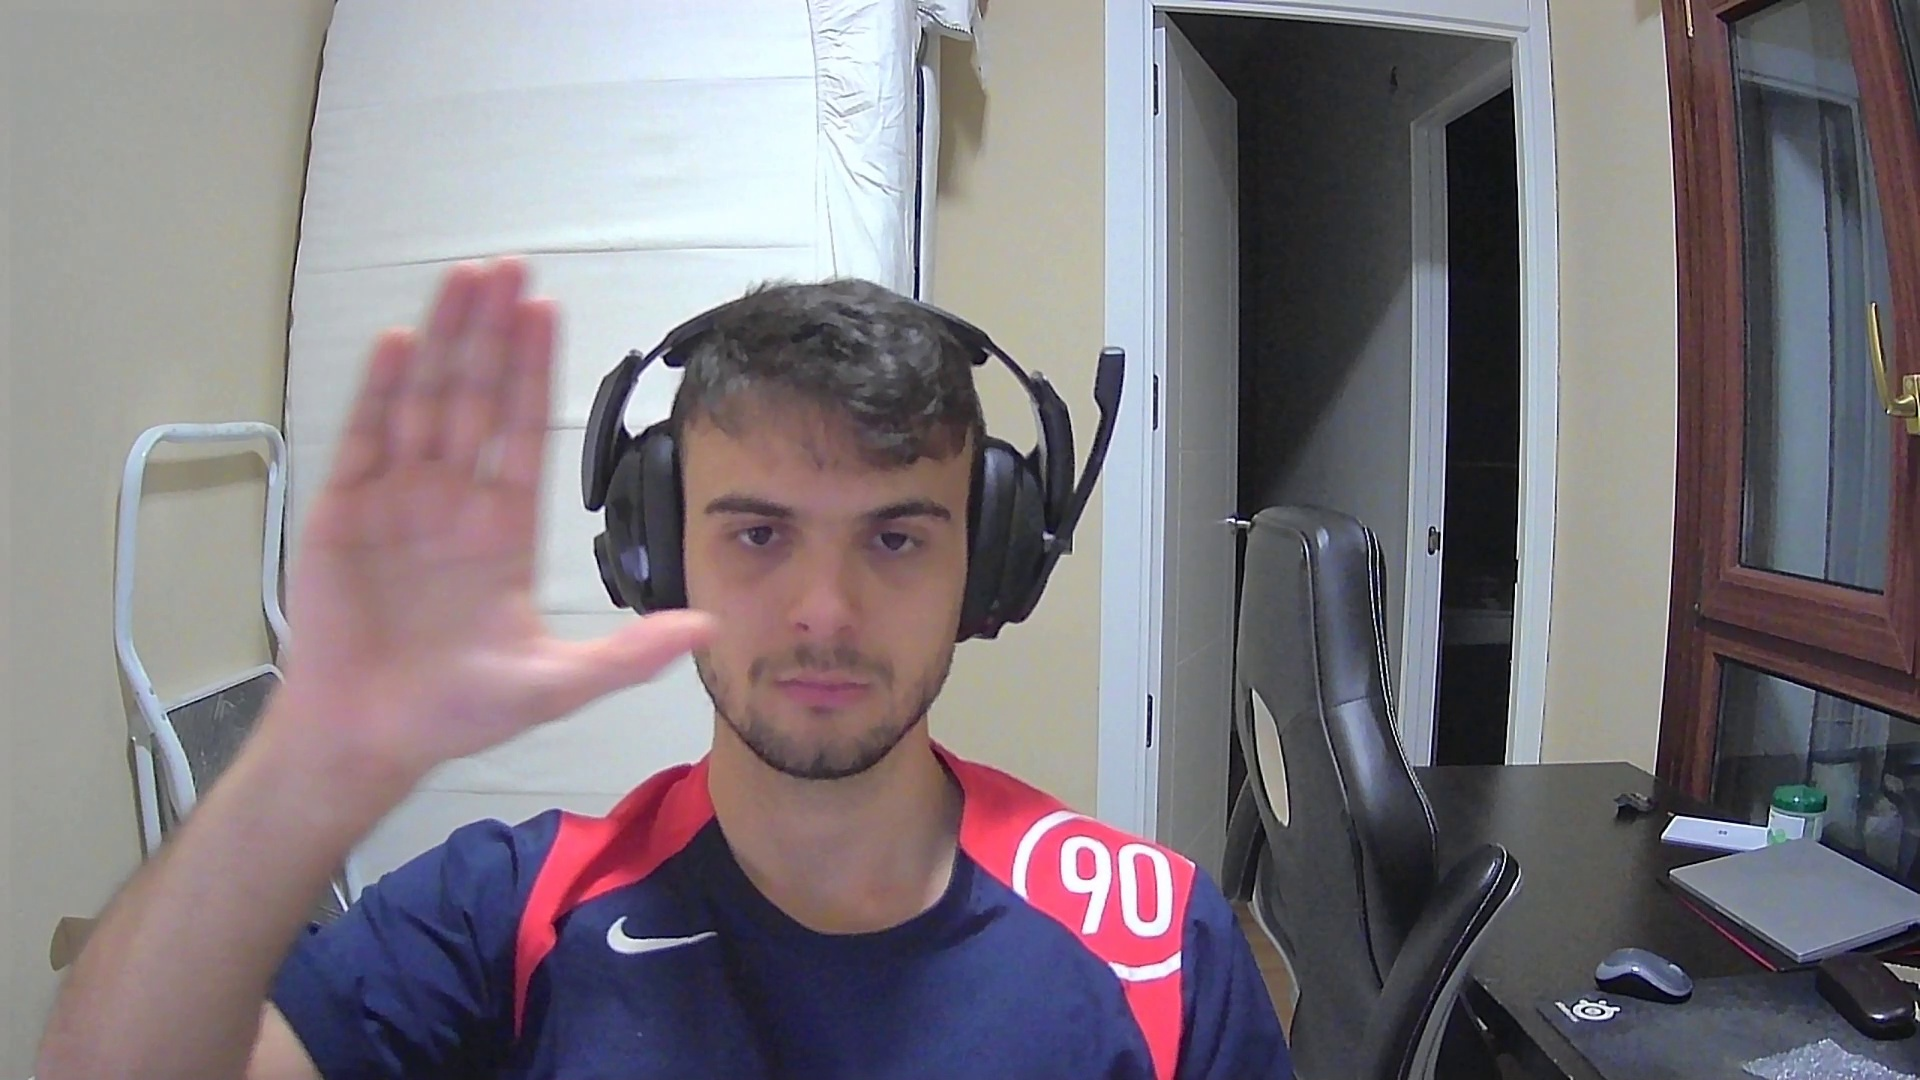Palm: (247, 255, 721, 698)
